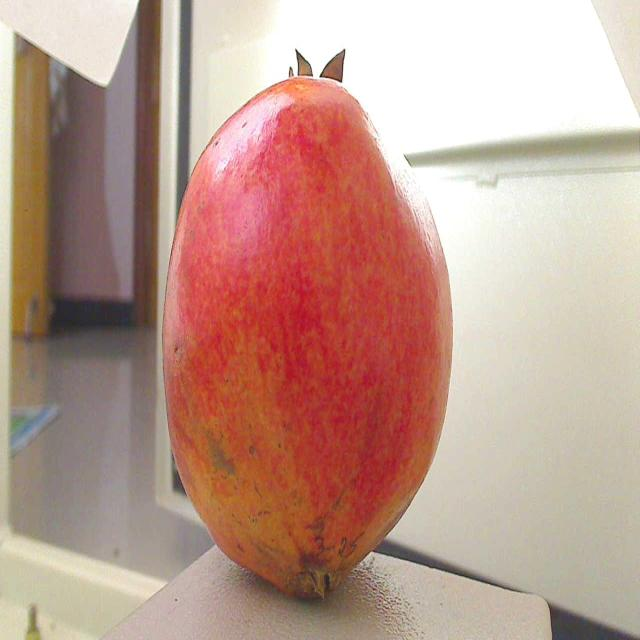pomegranate: (148, 33, 462, 610)
